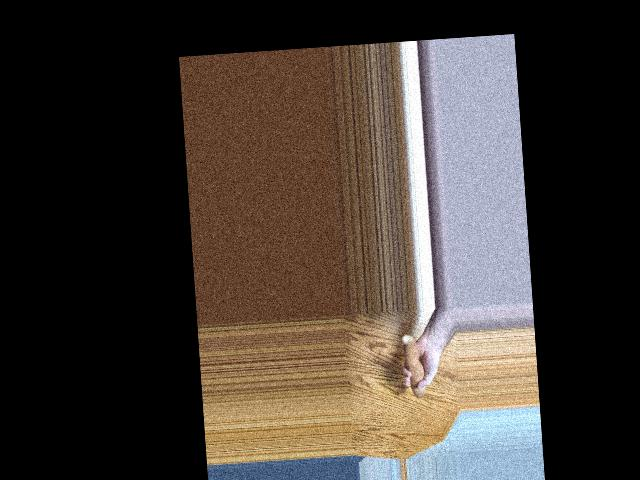sweet_potato: (403, 331, 429, 403)
